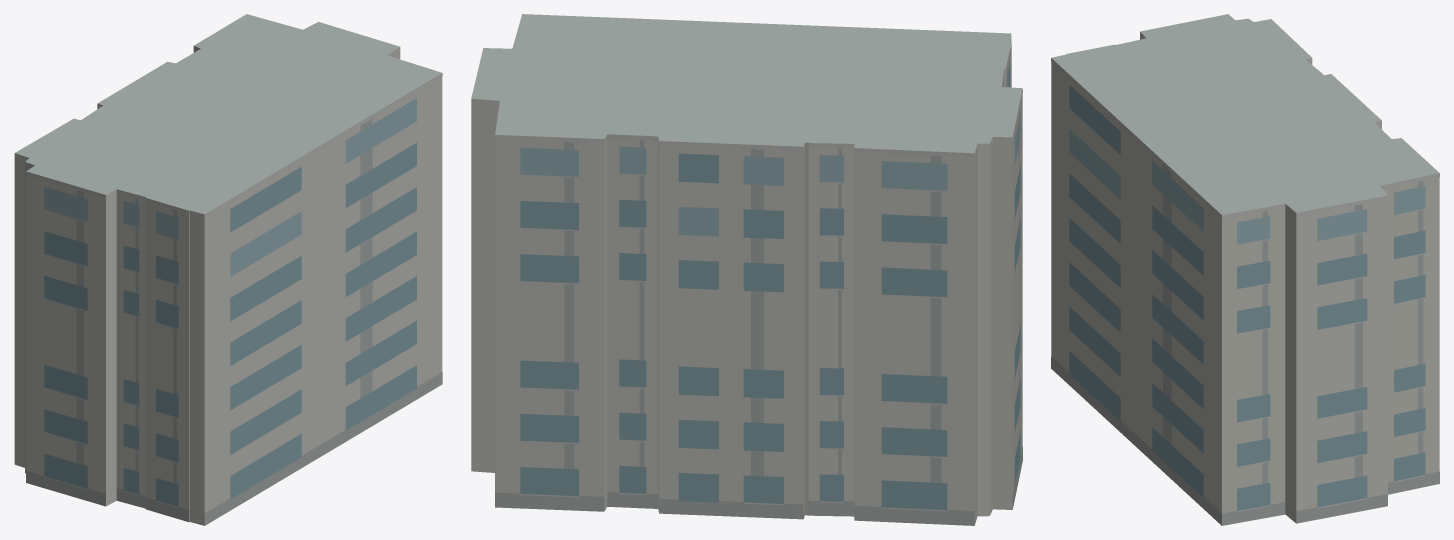
The model's file is survey-upis-32582376.glb.
The picture shows the model from 3 angles, left to right: view 1: azimuth 30°, elevation 25°; view 2: azimuth 150°, elevation 25°; view 3: azimuth 270°, elevation 25°; orthographic projection. The views are drawn at different scales.
Visible parts, largest first — view 1: survey-upis-32582376.tmp; view 2: survey-upis-32582376.tmp; view 3: survey-upis-32582376.tmp.
Part boxes in pixels (left/top/right/bottom): survey-upis-32582376.tmp: left=14, top=14, right=442, bottom=525; survey-upis-32582376.tmp: left=471, top=14, right=1022, bottom=525; survey-upis-32582376.tmp: left=1051, top=14, right=1439, bottom=525.
Bounding box in the file's own units: 27.08 × 19.5 × 22.11.
